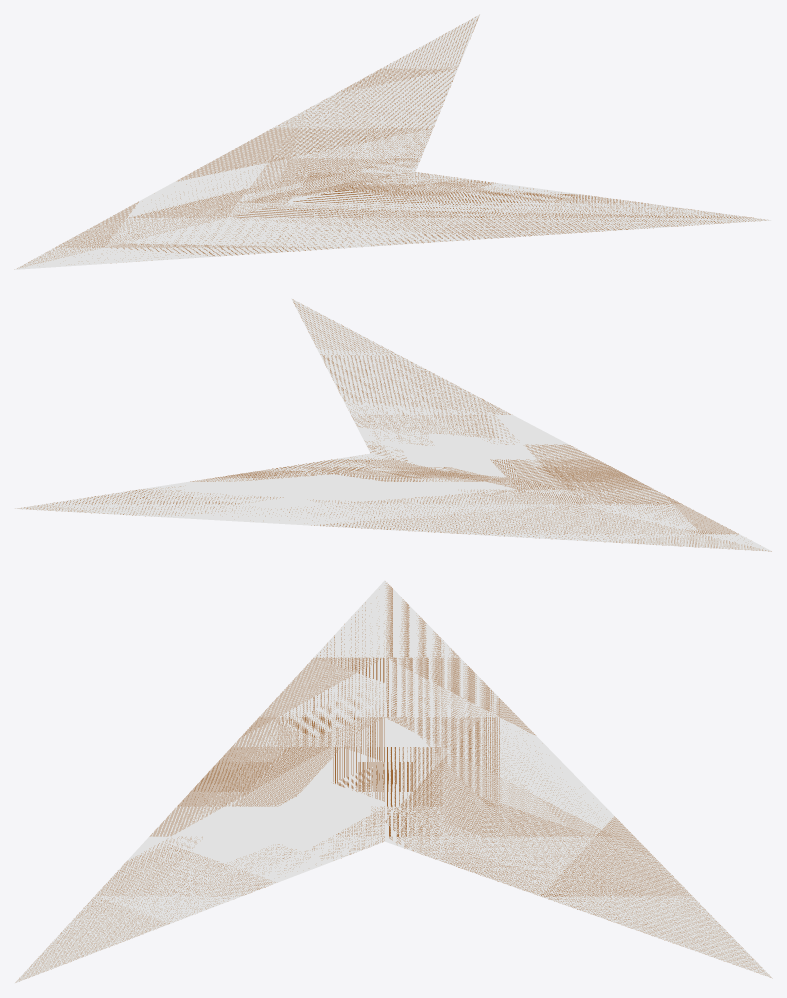
Rendered from Player_Position.dae.
3 views of the same model, one above another, from view 1: azimuth 30°, elevation 25°; view 2: azimuth 150°, elevation 25°; view 3: azimuth 270°, elevation 25° (orthographic). The views are drawn at different scales.
Parts seen in each view (by area): view 1: Component_225; view 2: Component_225; view 3: Component_225.
Part boxes in pixels (x1,y1,x2,y2): Component_225: (14, 14, 771, 269); Component_225: (14, 298, 771, 551); Component_225: (14, 580, 772, 983).
Size of the model in its own units: 152 by 121 by 8.09.
